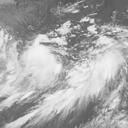cyclone: (24, 23, 117, 92)
